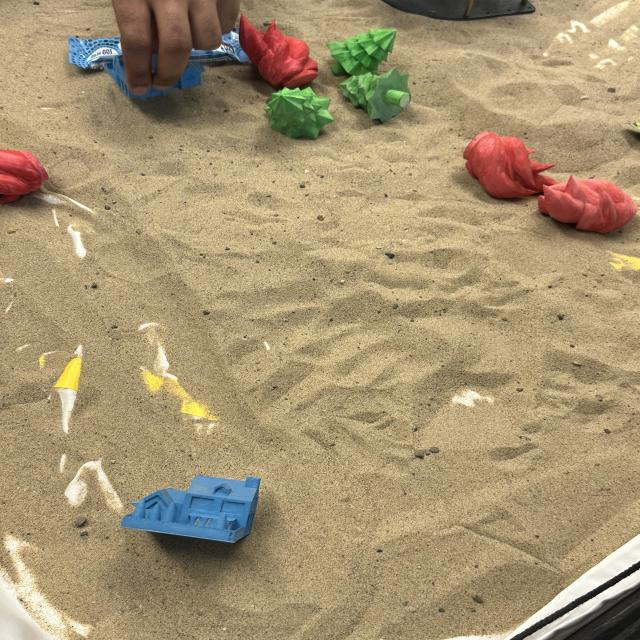fire: (461, 130, 557, 200), (536, 173, 637, 234), (0, 148, 50, 203)
house: (119, 472, 263, 546)
tree: (339, 68, 411, 122), (264, 86, 334, 139), (325, 28, 396, 76)
